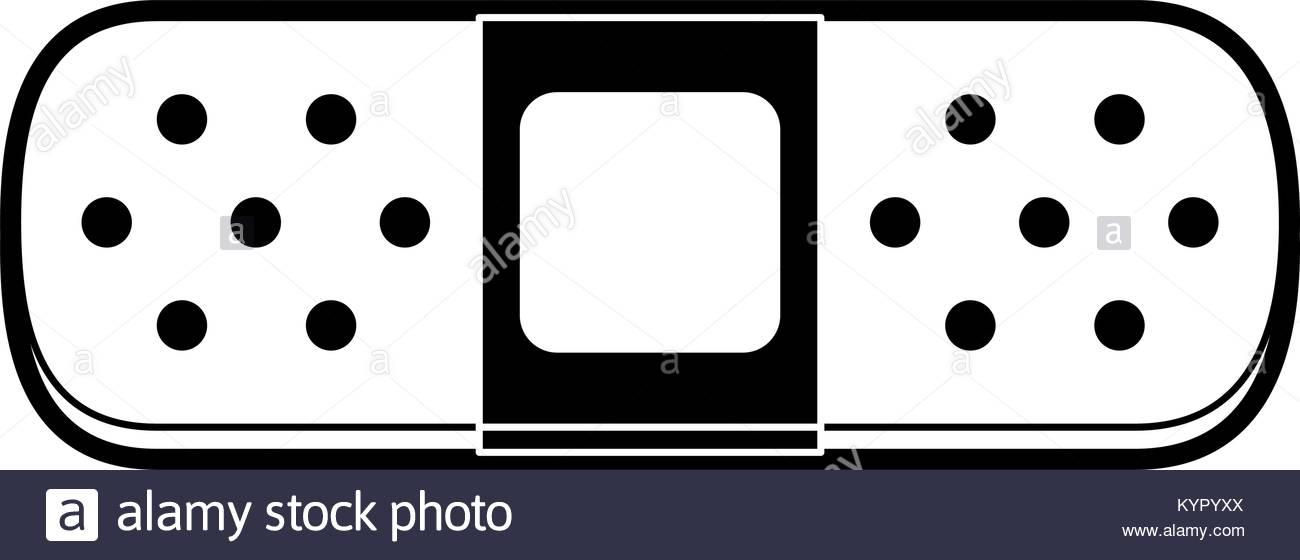bandage: (0, 0, 1300, 469)
